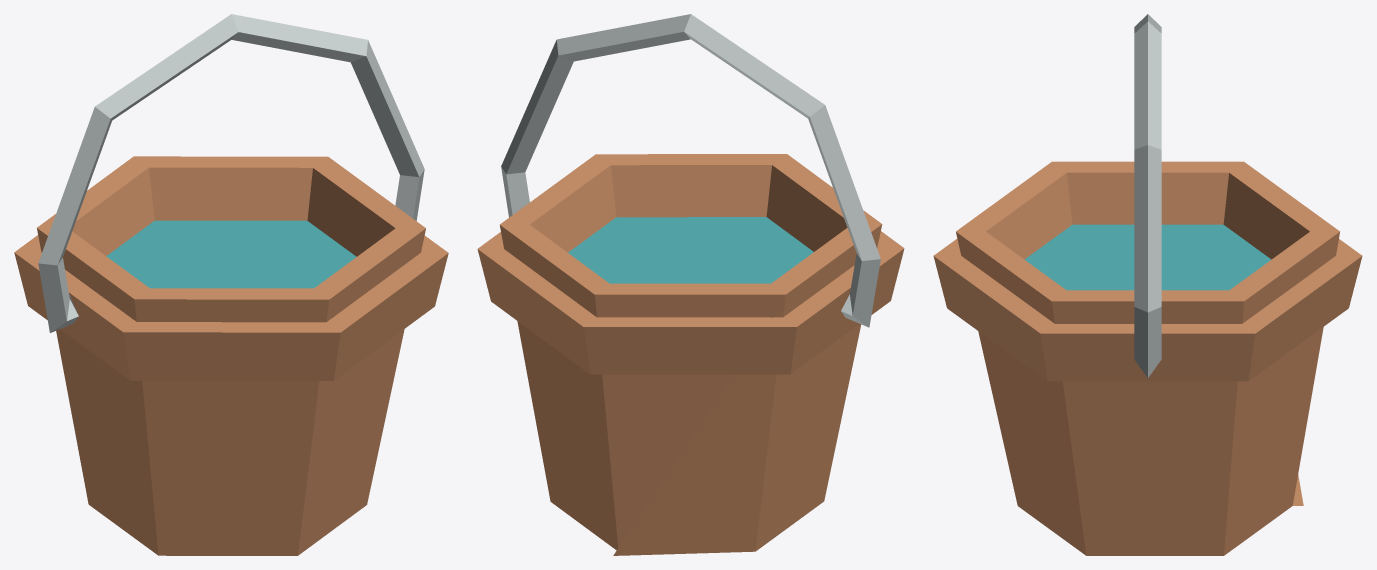
File: zhuangshi_09.FBX
3 views of the same model, side by side, from view 1: azimuth 30°, elevation 25°; view 2: azimuth 150°, elevation 25°; view 3: azimuth 270°, elevation 25° (orthographic).
Visible parts, largest first — view 1: zhuangshi_09; view 2: zhuangshi_09; view 3: zhuangshi_09.
Part boxes in pixels (x1,y1,x2,y2): zhuangshi_09: (14, 14, 448, 555); zhuangshi_09: (477, 14, 904, 555); zhuangshi_09: (933, 14, 1362, 555).
Size of the model in its own units: 342 by 418 by 335.
